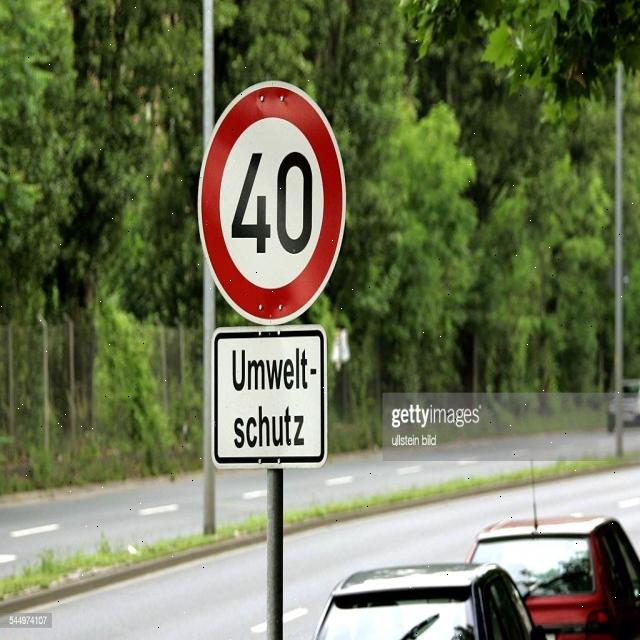speed limit 40: (197, 84, 347, 323)
